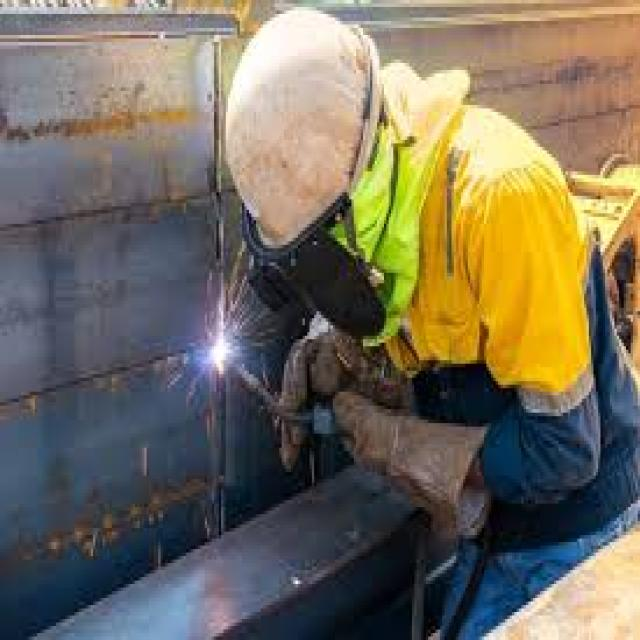welding: (210, 335, 228, 363)
